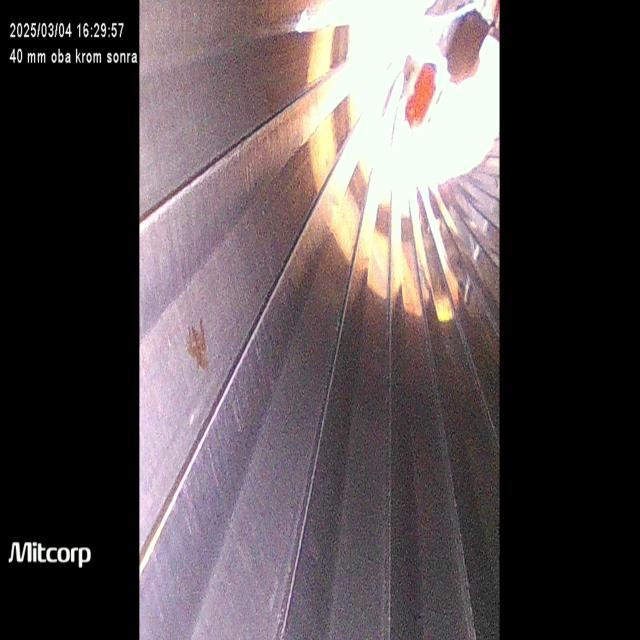hata_4.2: (178, 307, 224, 391), (245, 258, 285, 330)
